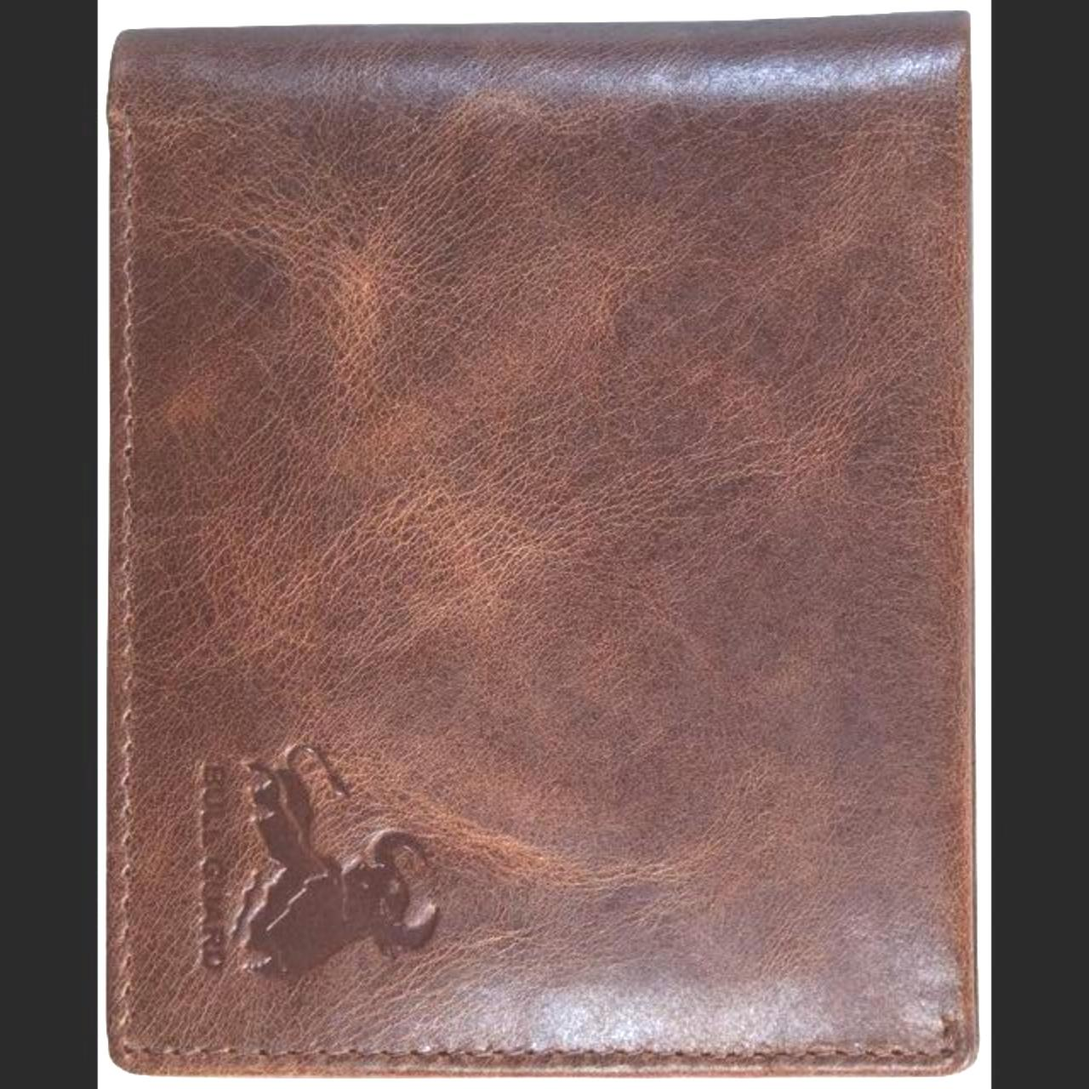wallet: (105, 6, 985, 1076)
